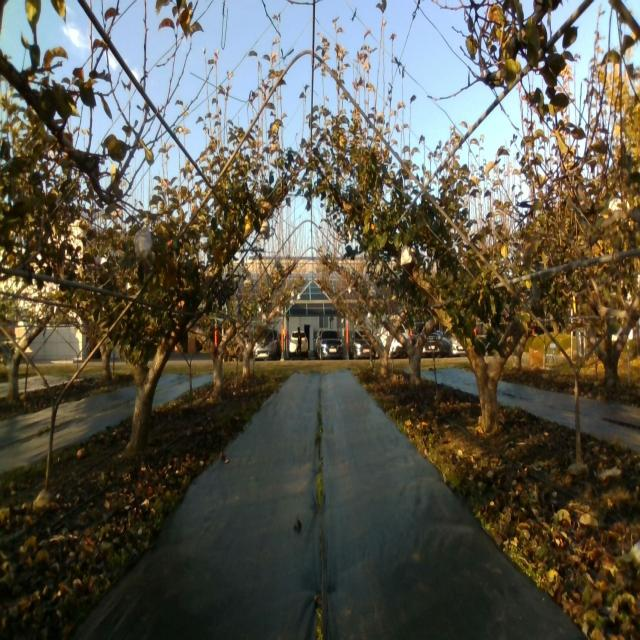pearbags: (134, 225, 152, 260), (401, 245, 417, 265), (259, 220, 270, 238)
